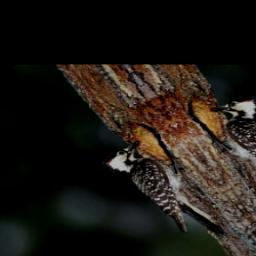Woodpecker: (92, 130, 238, 256)
